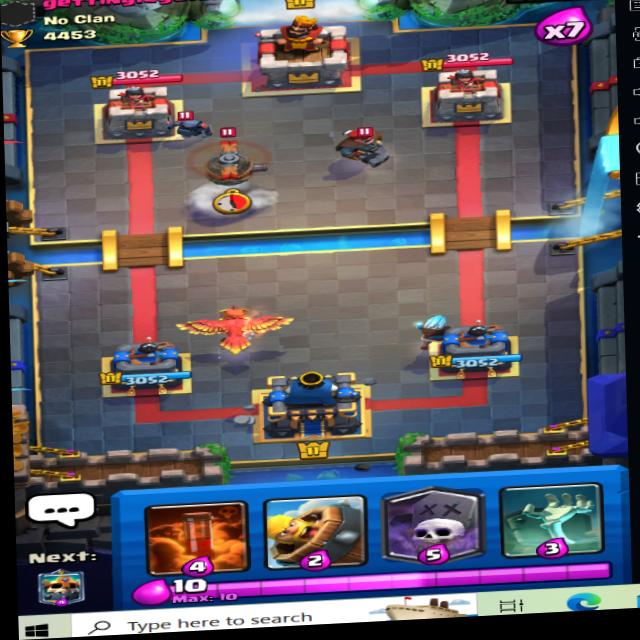flying-machine: (184, 126, 280, 191)
hunter: (320, 121, 403, 174)
mini-pekka: (160, 105, 218, 144)
